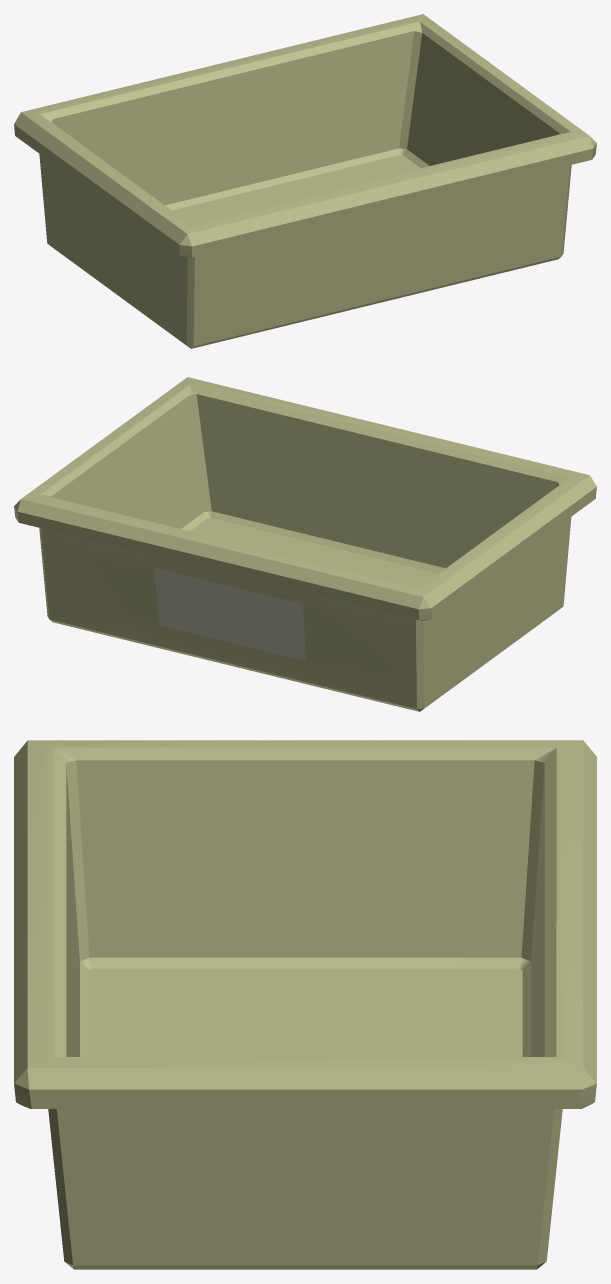
Rendered from Stackable_Plastic_Tray.fbx.
The picture shows the model from 3 angles, top to bottom: view 1: azimuth 30°, elevation 25°; view 2: azimuth 150°, elevation 25°; view 3: azimuth 270°, elevation 25°; orthographic projection. The views are drawn at different scales.
Parts seen in each view (by area): view 1: pCube2; view 2: pCube2; view 3: pCube2.
Part boxes in pixels (x1,y1,x2,y2): pCube2: [14, 14, 596, 348]; pCube2: [14, 377, 596, 711]; pCube2: [14, 740, 596, 1269].
Bounding box in the file's own units: 0.4648 × 0.1386 × 0.3369.
